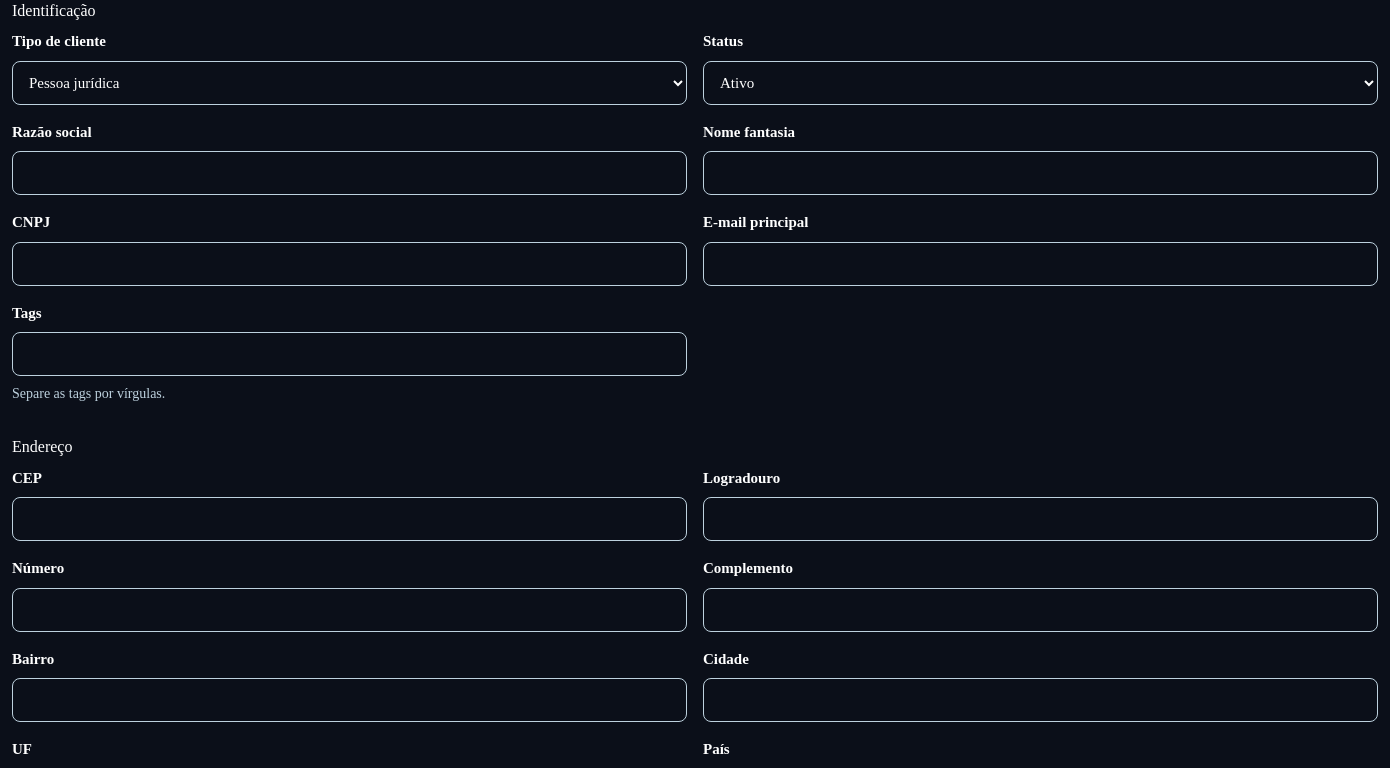
Test: ClientForm › adapts PF/PJ labels and blocks an invalid shared-schema submission
Check: the field labelled "Razão social" is shown, box x1=12 y1=151 x2=687 y2=195
Select "Pessoa física" in the dropdown labelled "Tipo de cliente" at (350, 83), box x1=12 y1=61 x2=687 y2=105
(page scrolled)
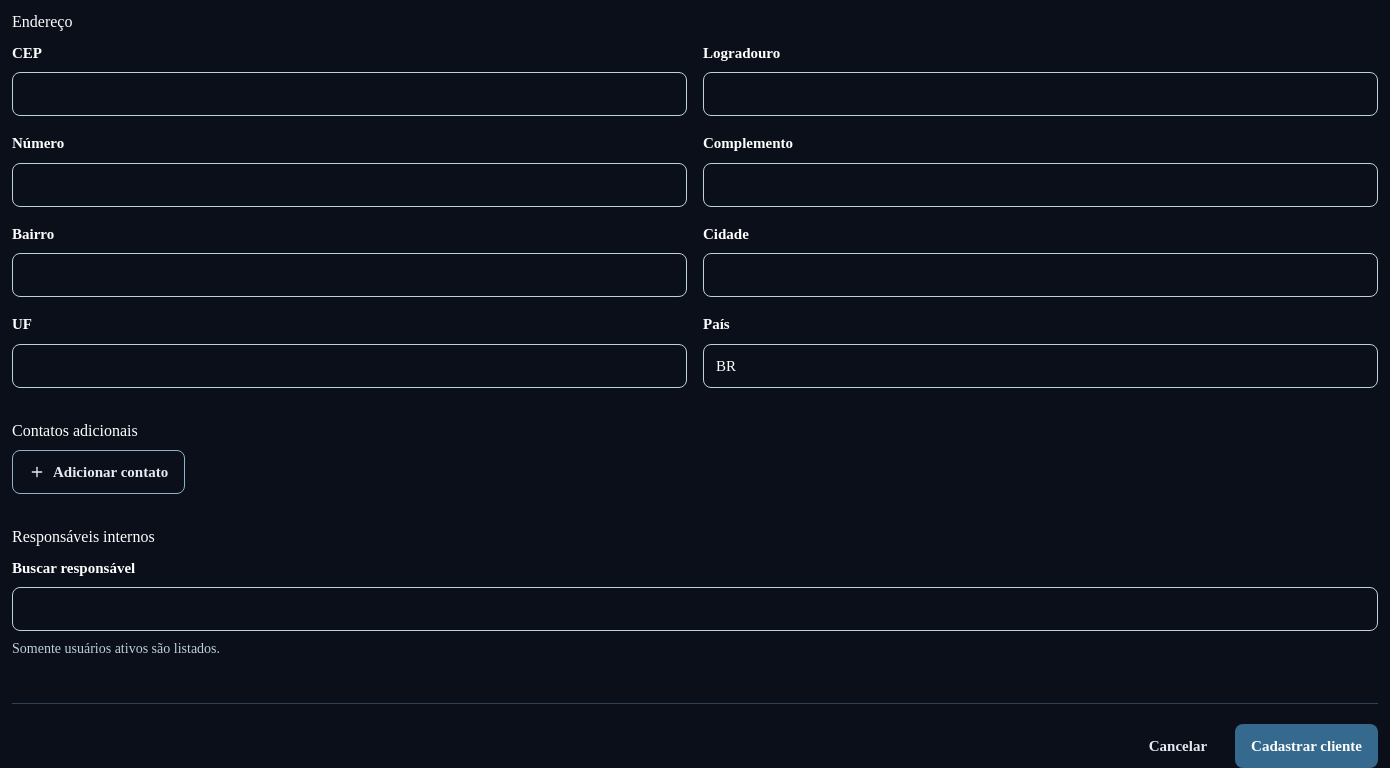
Click the button "Cadastrar cliente" at (1306, 746), box x1=1235 y1=724 x2=1378 y2=767
(page scrolled)
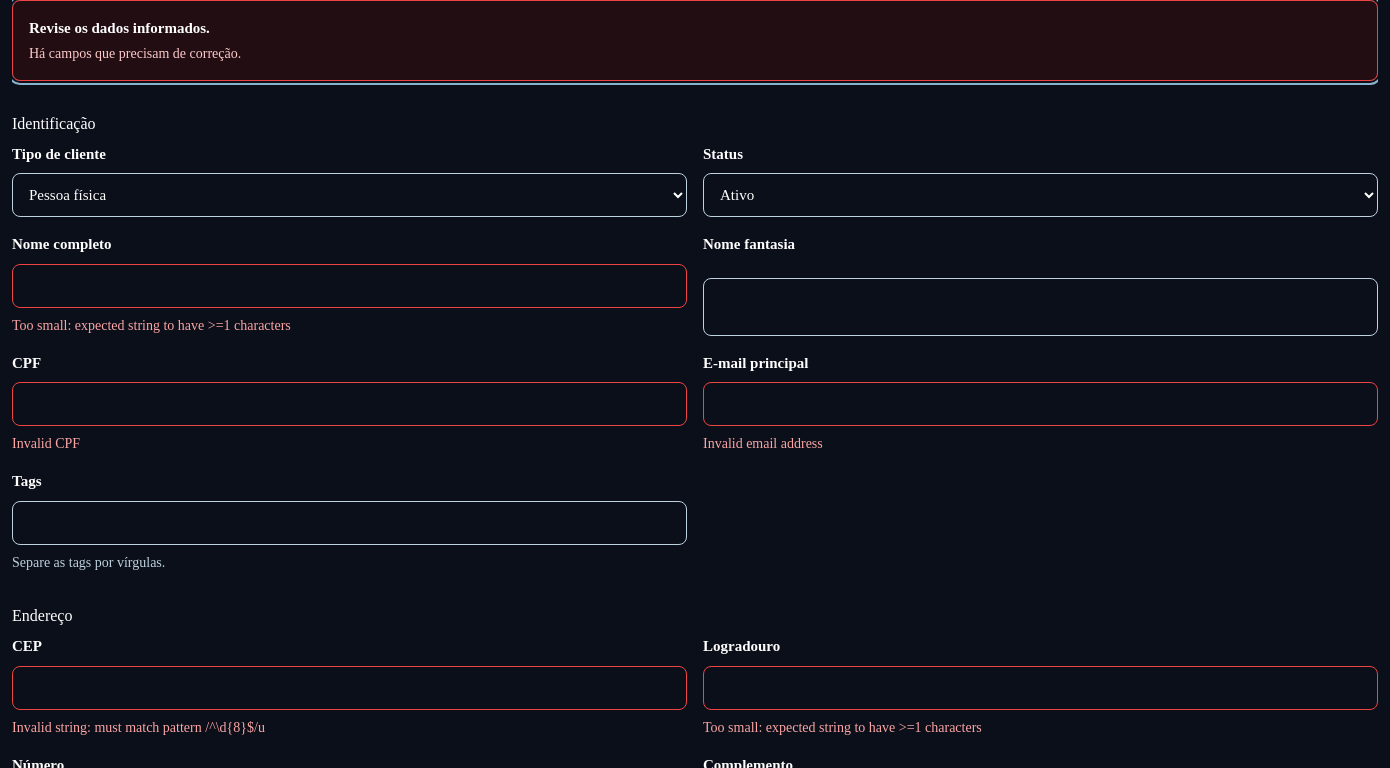
Check: the text "Revise os dados informados." is shown, box x1=29 y1=20 x2=210 y2=36
